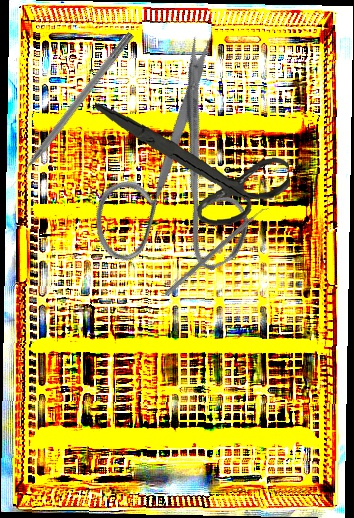Iris Scissors: (34, 29, 311, 312), (94, 88, 293, 234)
Pusher: (5, 29, 135, 192)
Spatula Surgical: (164, 202, 272, 301)
